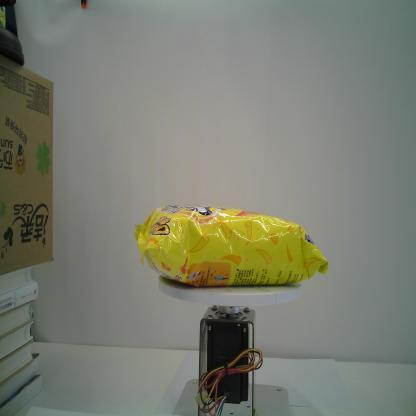Puffed Food: (131, 200, 330, 288)
